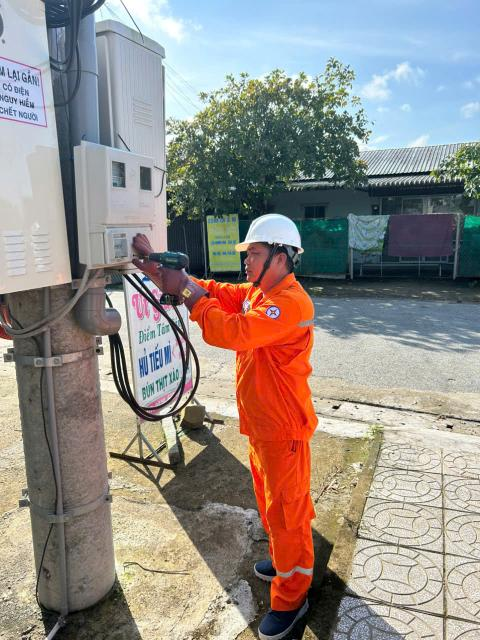gloves: (122, 228, 184, 299), (143, 263, 213, 309)
helmet: (232, 205, 310, 265)
shoes: (234, 592, 312, 640), (223, 554, 298, 589)
